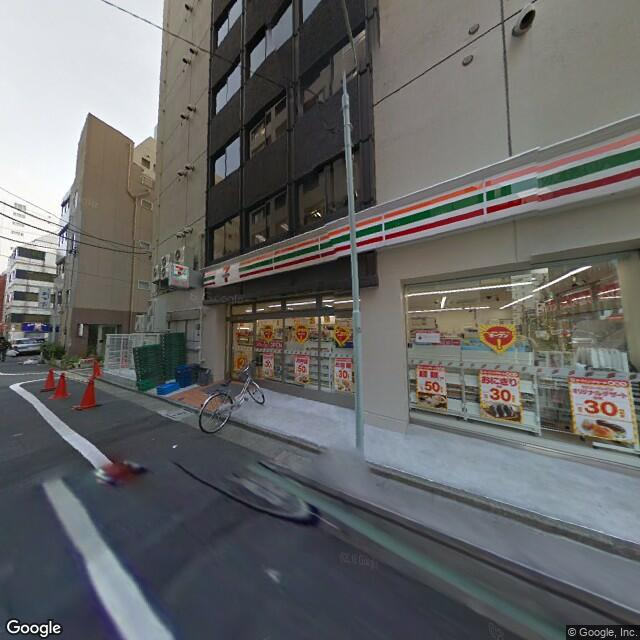7-eleven: (204, 126, 638, 291), (171, 260, 189, 279)
